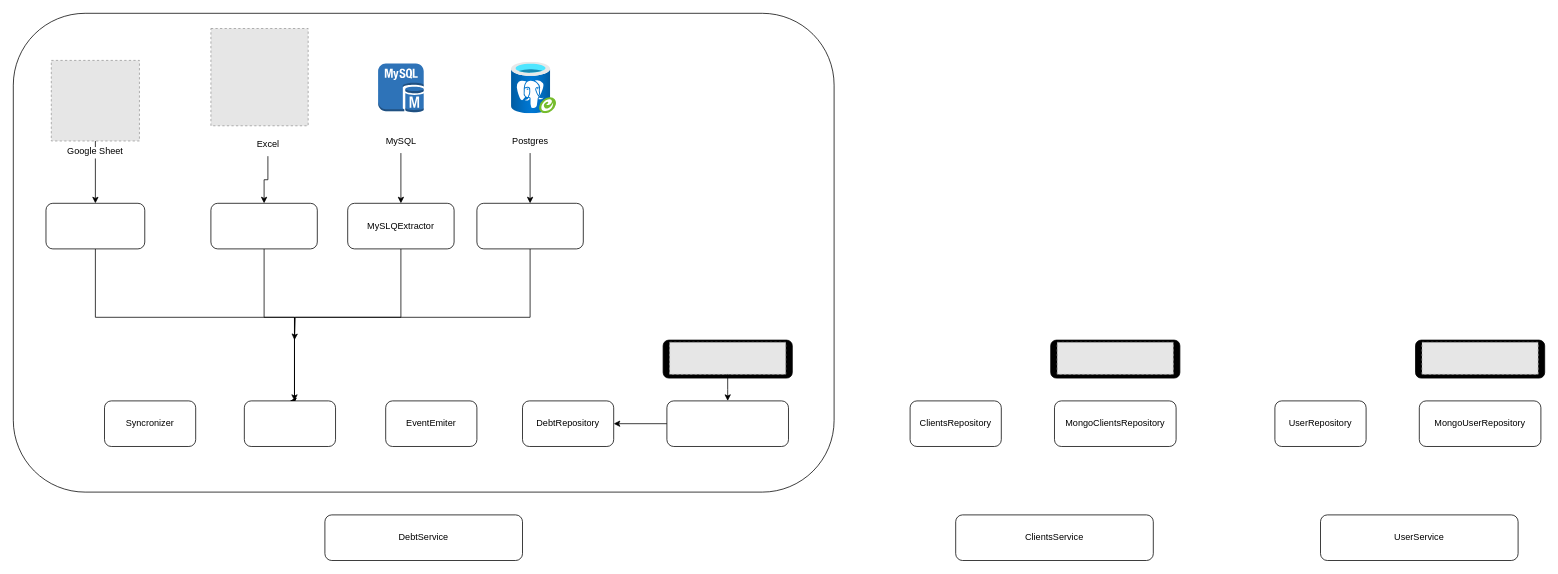
Image size: 1558x574. Some labels were removed from this diagram. Grey dashed boxes stand in for pictures. The box of each missing label's shape, as (x1, y1, x2, y2) in pixels:
Extractor: (244, 400, 336, 446)
GoogleSheetExtractor: (45, 203, 145, 249)
MicrosoftExcelExtractor: (210, 203, 317, 249)
MongoDebtRepository: (666, 400, 788, 446)
PostgresExtractor: (476, 203, 583, 249)
